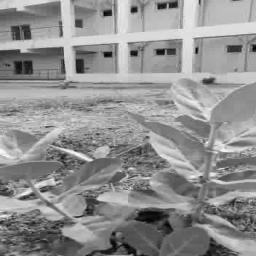Calotropis: (7, 125, 245, 256), (145, 78, 255, 123)
